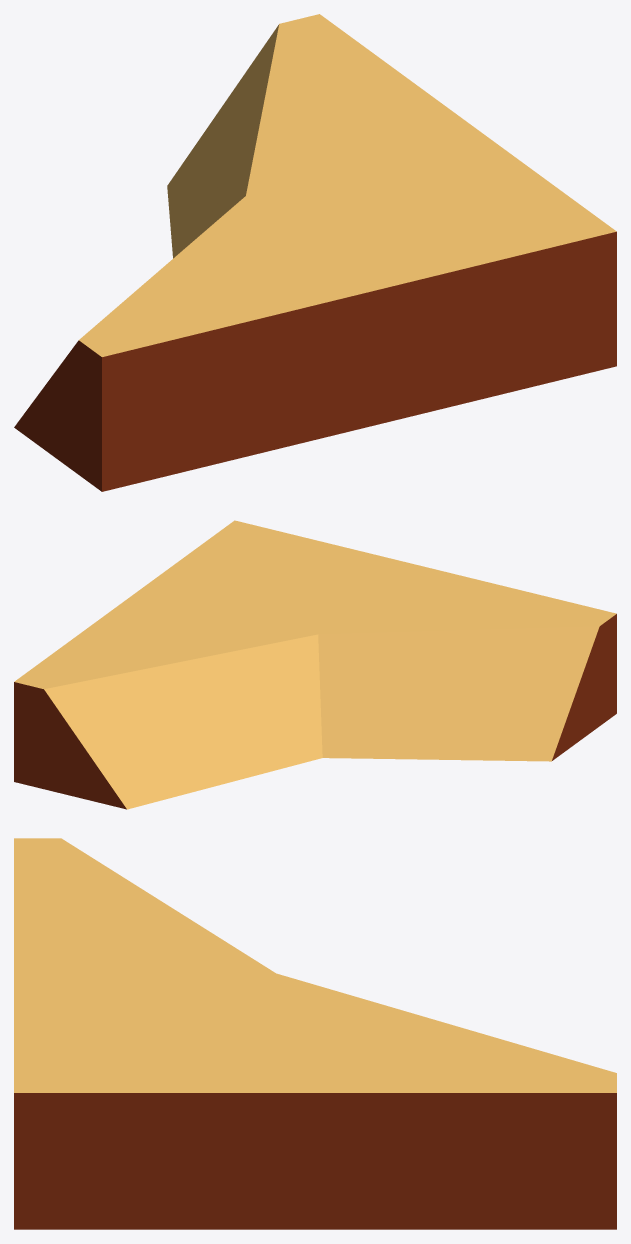
File: cornerInt_border_sand.fbx
3 views of the same model, one above another, from view 1: azimuth 30°, elevation 25°; view 2: azimuth 150°, elevation 25°; view 3: azimuth 270°, elevation 25° (orthographic). The views are drawn at different scales.
Visible parts, largest first — view 1: cornerInt_border_sand; view 2: cornerInt_border_sand; view 3: cornerInt_border_sand.
Part boxes in pixels (<box>): cornerInt_border_sand: <box>14,14,616,491</box>; cornerInt_border_sand: <box>14,520,616,809</box>; cornerInt_border_sand: <box>14,838,616,1229</box>.
Bounding box in the file's own units: 200 × 50 × 200.
Materials: 1 (1 with a texture image).
